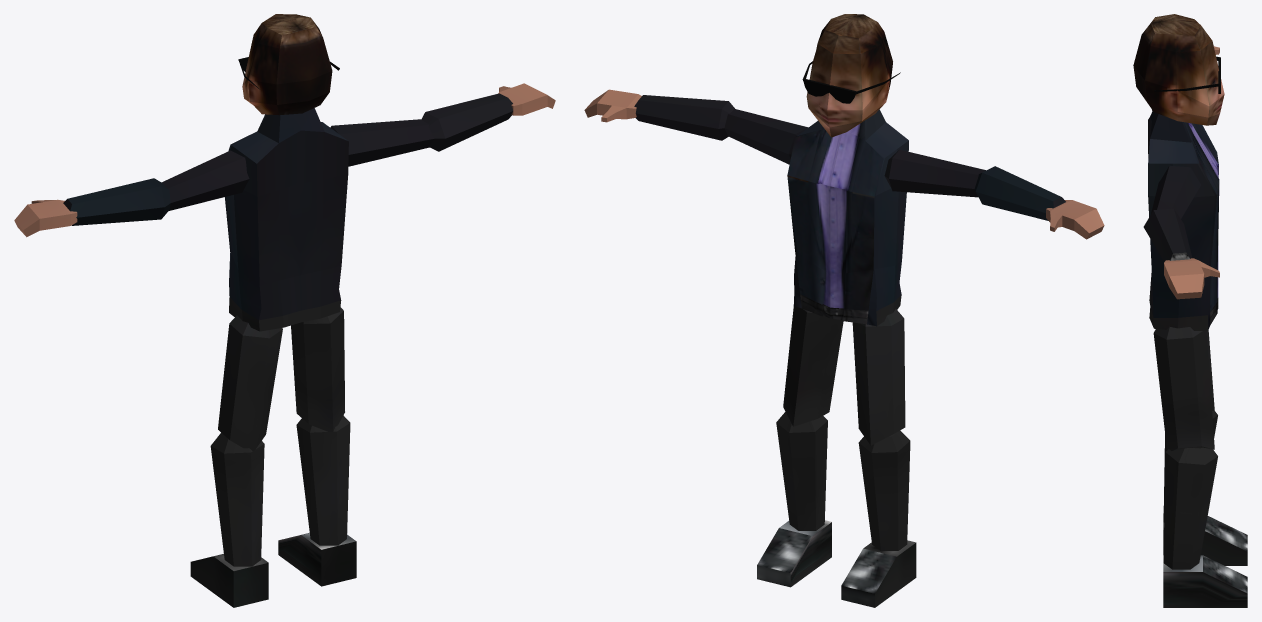
File: romka.fbx
The picture shows the model from 3 angles, left to right: view 1: azimuth 30°, elevation 25°; view 2: azimuth 150°, elevation 25°; view 3: azimuth 270°, elevation 25°; orthographic projection. The views are drawn at different scales.
Visible parts, largest first — view 1: Cube; view 2: Cube; view 3: Cube.
Boxes of the visible parts, box(x1,y1,x2,y2) form: Cube: box(14, 14, 555, 607); Cube: box(584, 14, 1104, 607); Cube: box(1133, 14, 1247, 607).
Bounding box in the file's own units: 1215 × 1244 × 230.
Materials: 2 (1 with a texture image).
